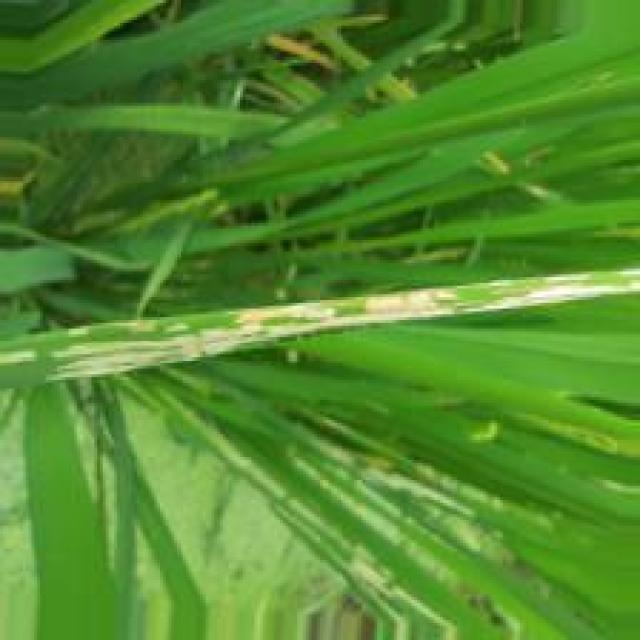Rice_Hispa: (48, 284, 640, 385)
